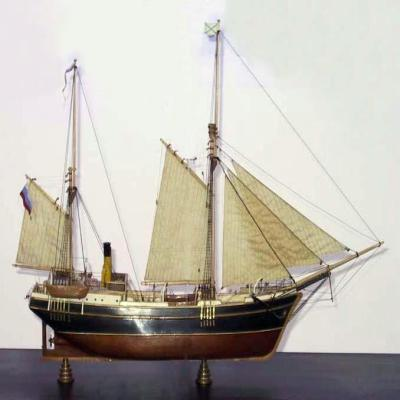other: (14, 20, 384, 400)
